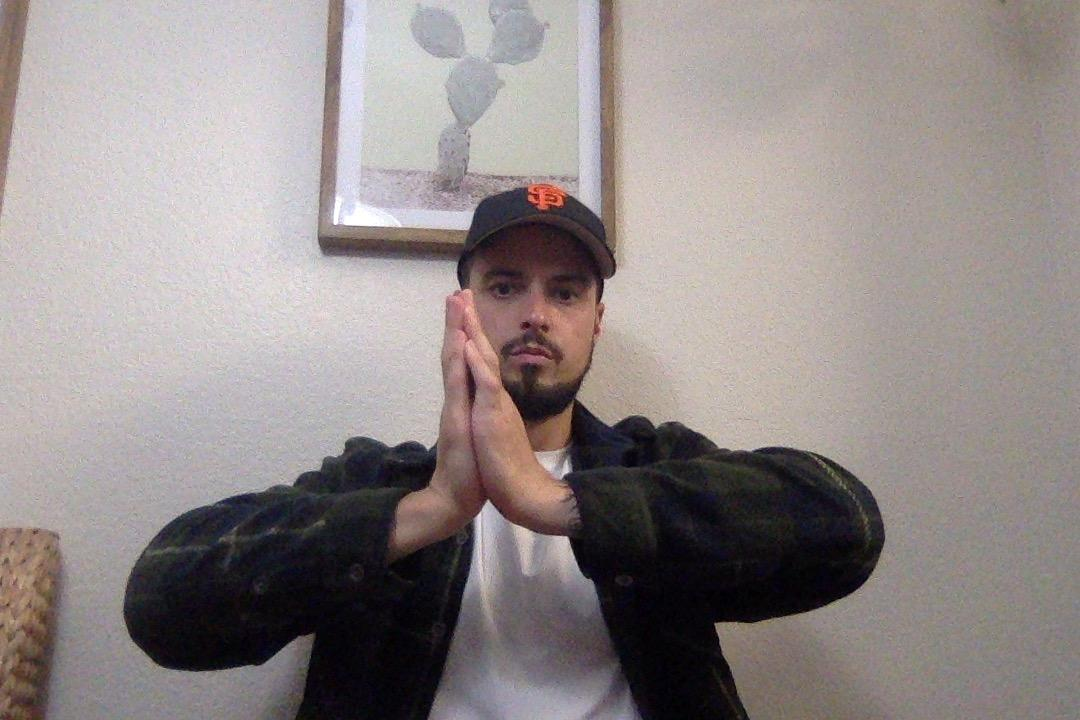Praying-Hands: (398, 283, 573, 557)
